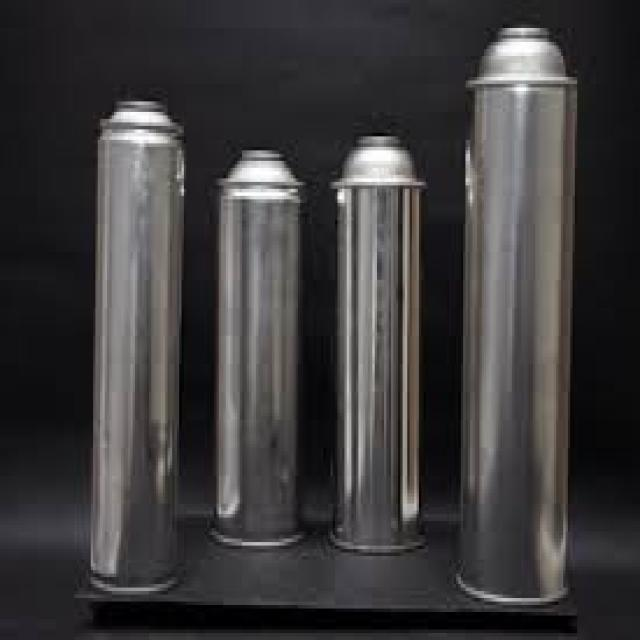metal: (454, 21, 565, 602), (95, 98, 184, 591), (328, 133, 421, 552), (214, 147, 300, 549)
